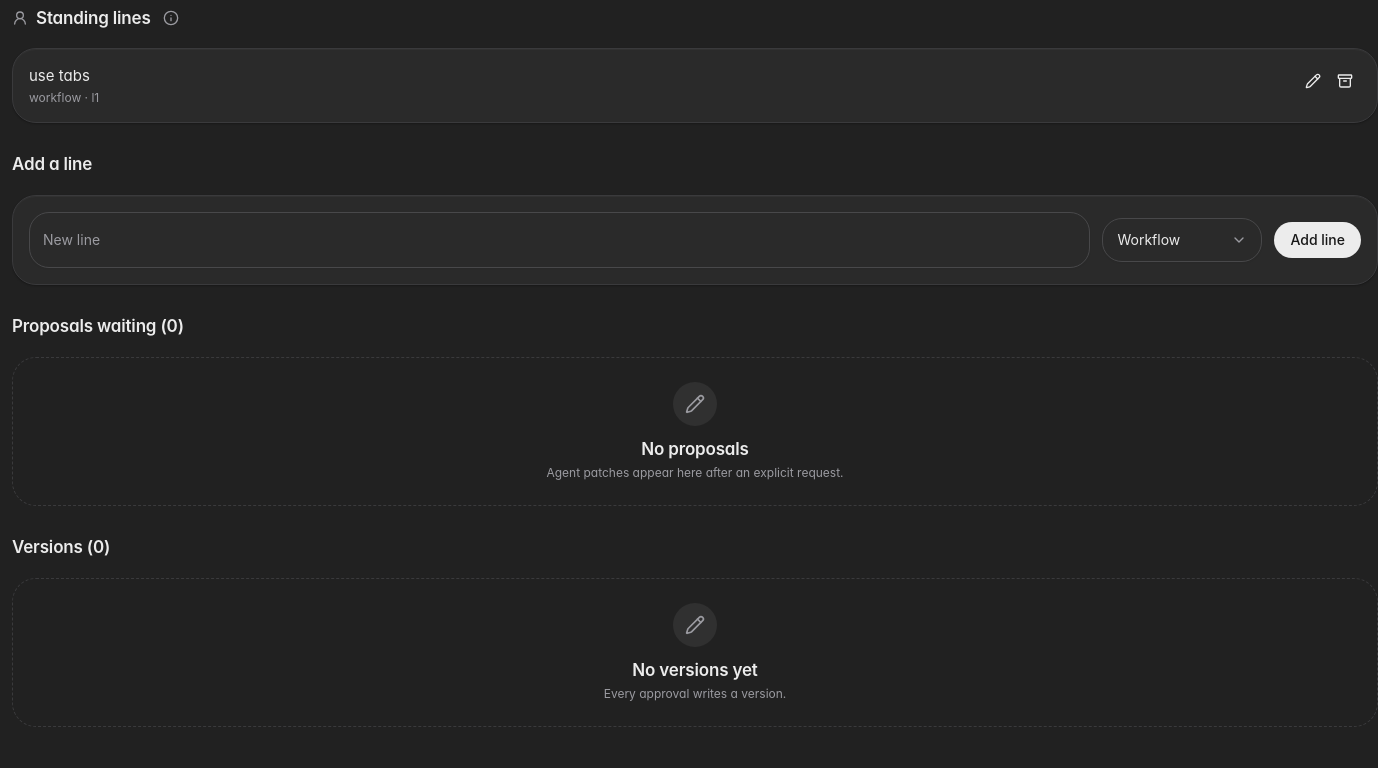
Test: ProfileSettings › retires a line
The width and height of the screenshot is (1378, 768).
Click the button named "Retire l1": (1345,81) x1=1329 y1=65 x2=1361 y2=97
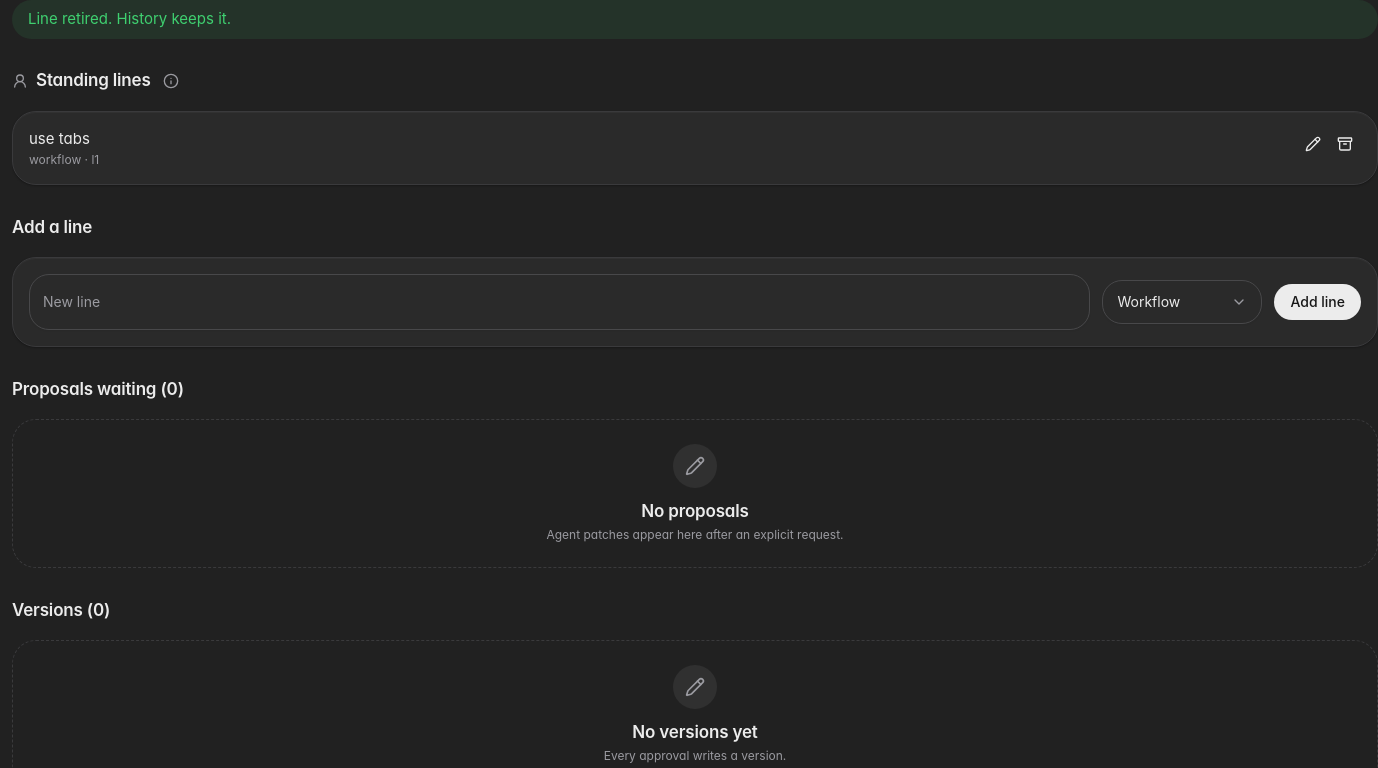
Expected: the text "Line retired. History keeps it." is shown, x1=12 y1=0 x2=1377 y2=38
